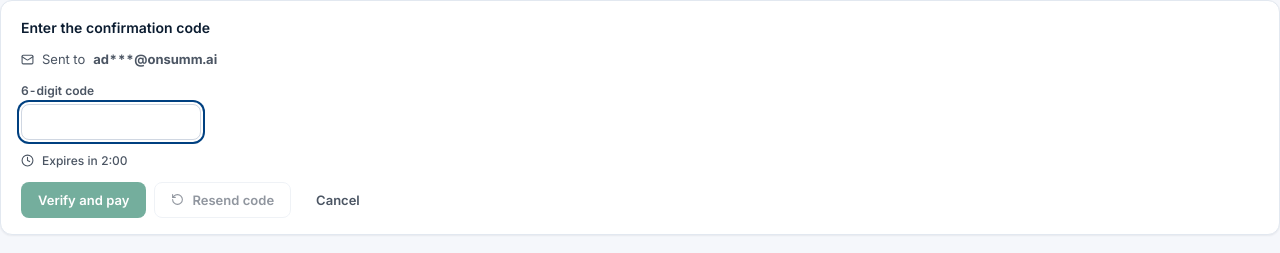
Test case: confirmation code step › accepts only digits and stops at six
In the field labelled "6-digit code": (111,122) left=21, top=104, right=201, bottom=140, type "12ab34cd567"
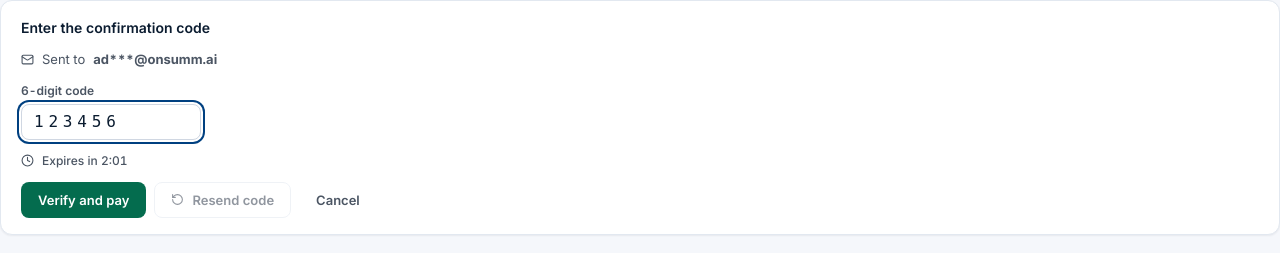
Now the field labelled "6-digit code" holds "123456", box left=21, top=104, right=201, bottom=140
